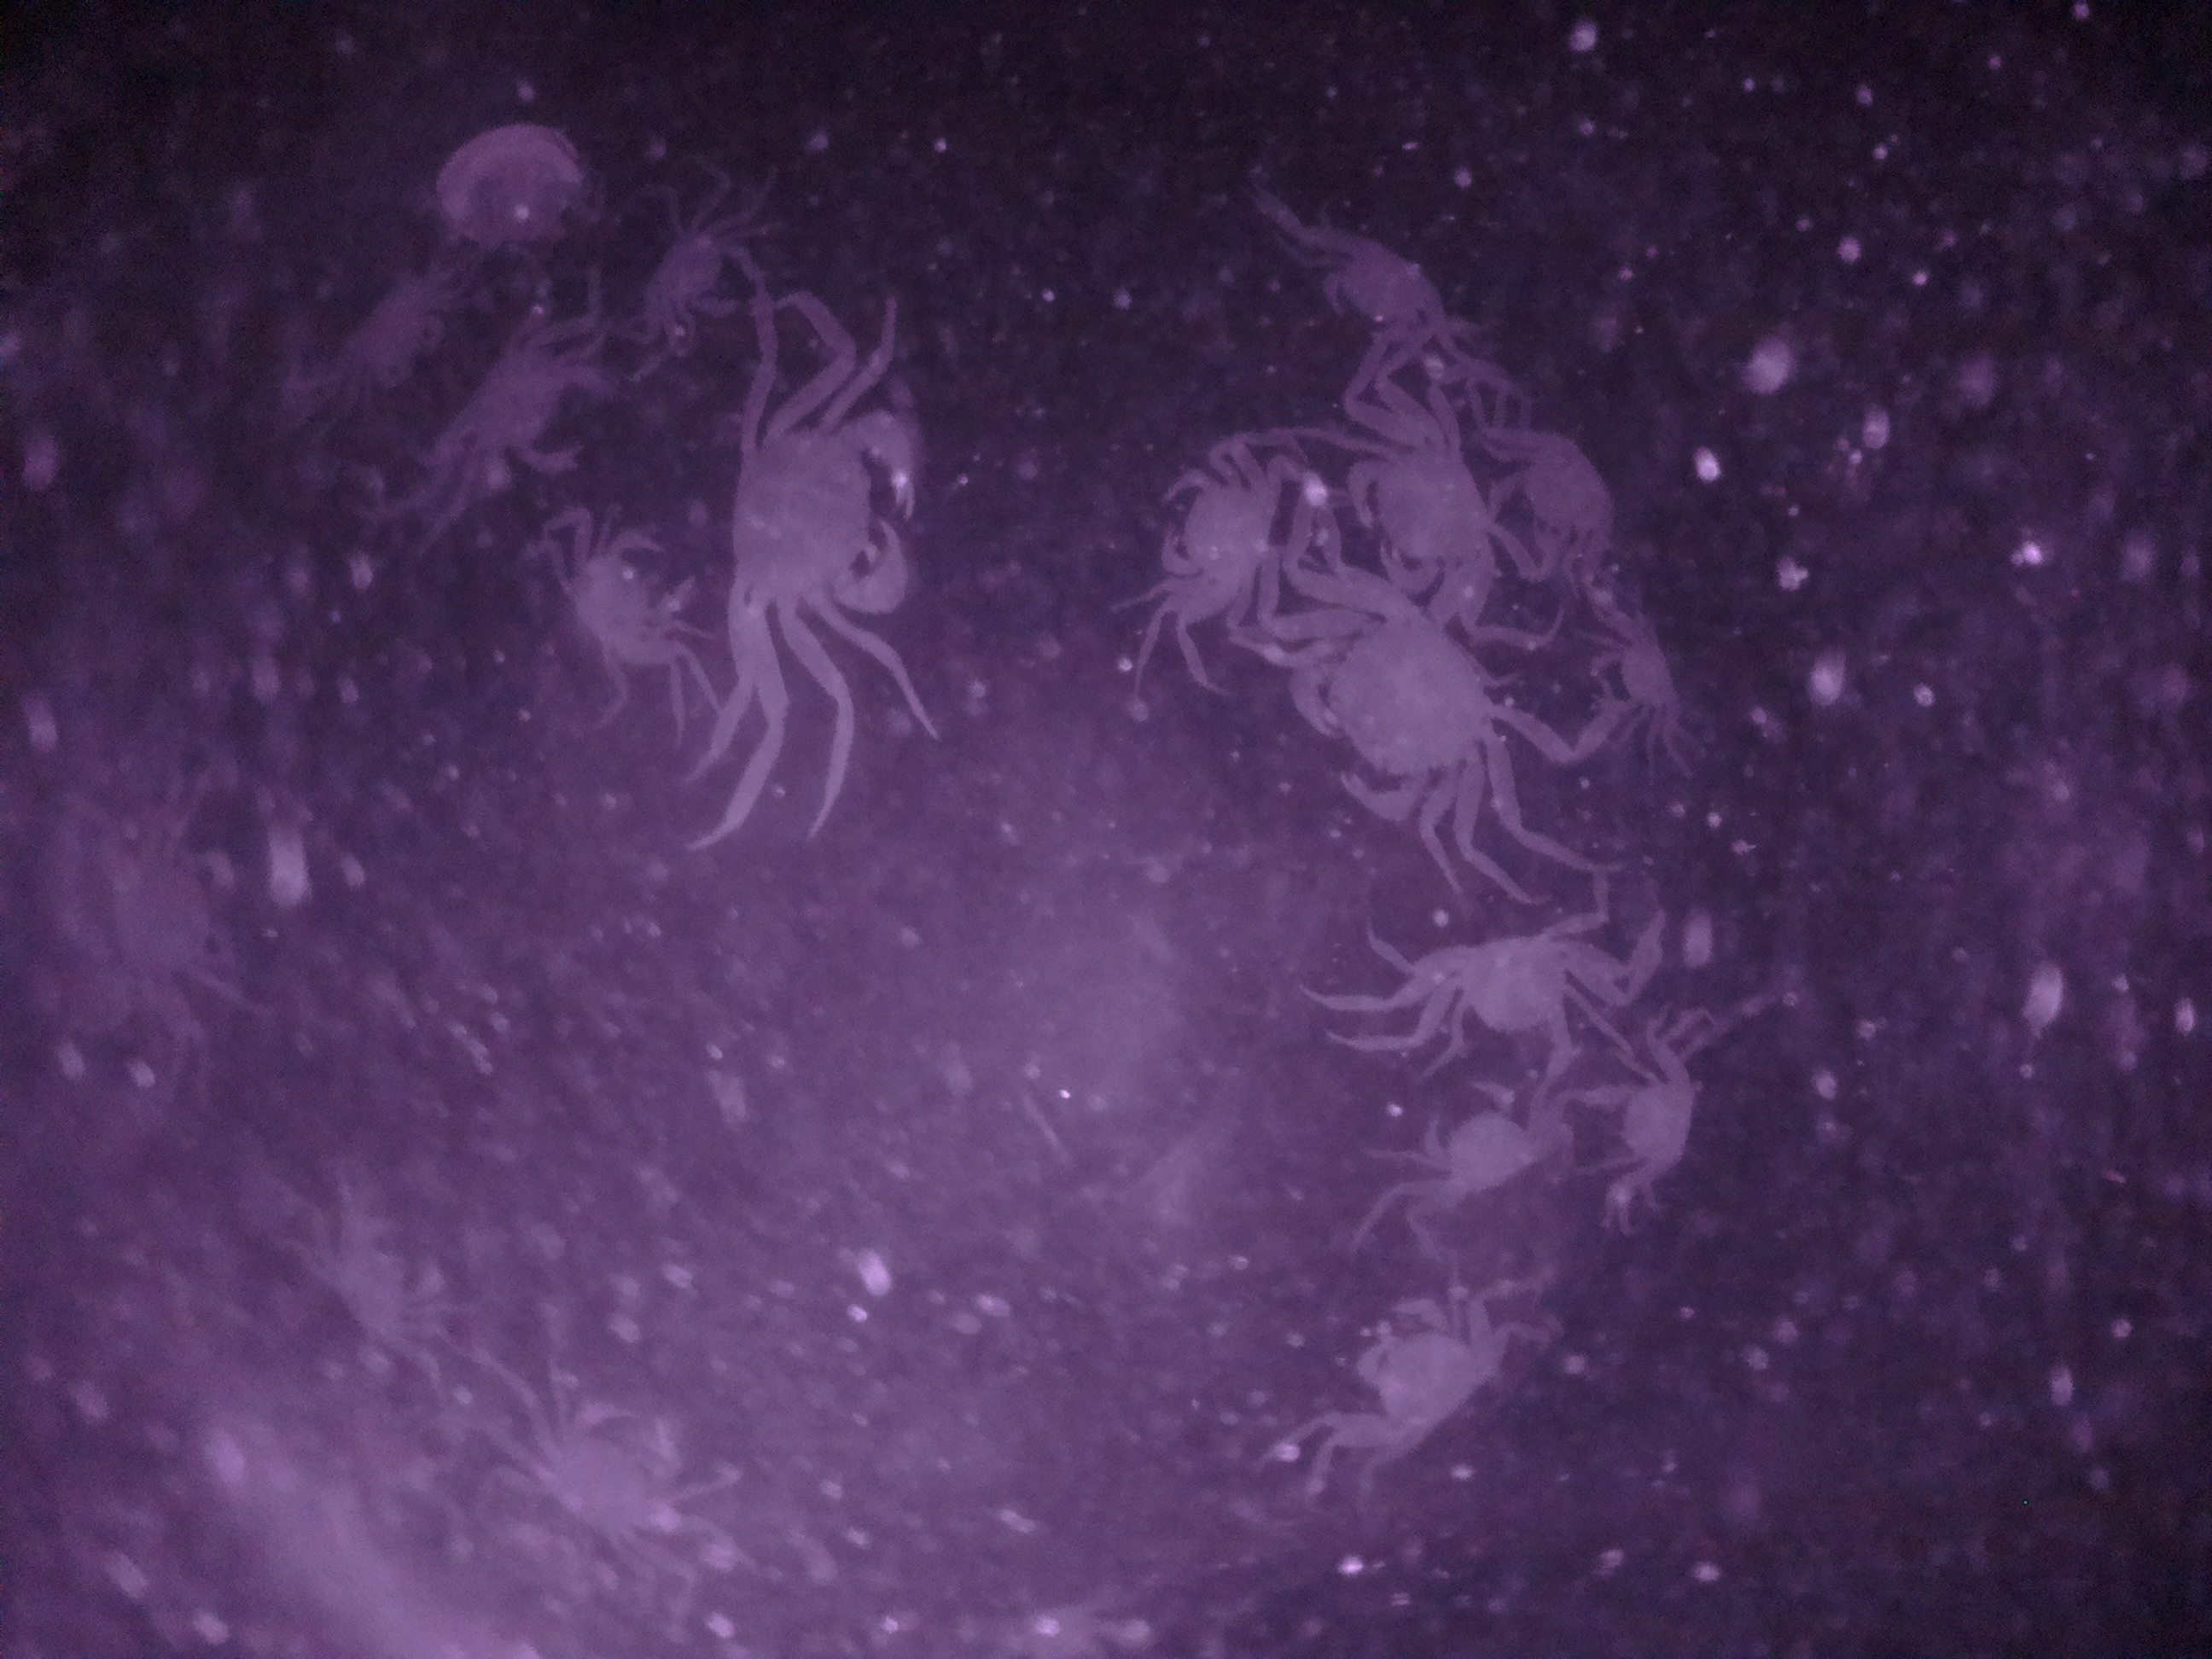Crab: (1277, 584, 1536, 838), (721, 371, 930, 662), (1338, 401, 1500, 599), (1388, 915, 1618, 1049), (552, 500, 712, 688), (1487, 403, 1649, 586), (1350, 1281, 1507, 1453), (1153, 432, 1278, 643), (1291, 225, 1468, 366), (1581, 1051, 1728, 1190), (1576, 606, 1705, 748), (1399, 1089, 1536, 1218)
